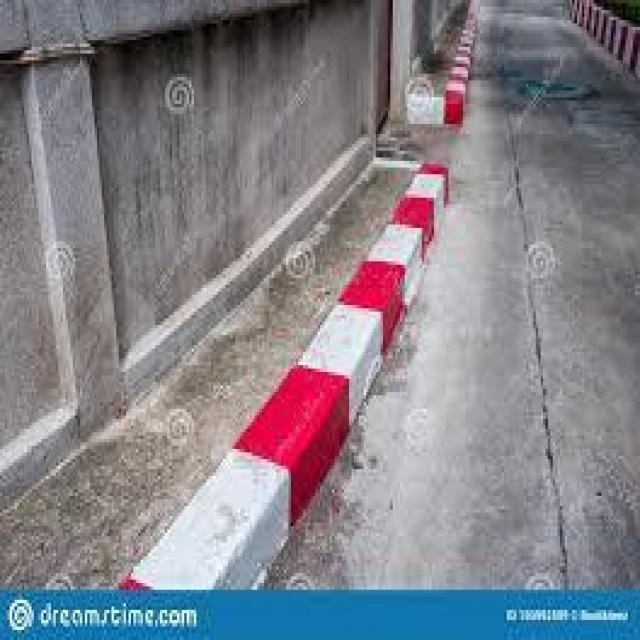curb: (133, 410, 354, 589), (288, 306, 435, 429), (368, 174, 460, 320), (444, 8, 482, 123), (575, 1, 640, 66), (406, 91, 491, 138)
